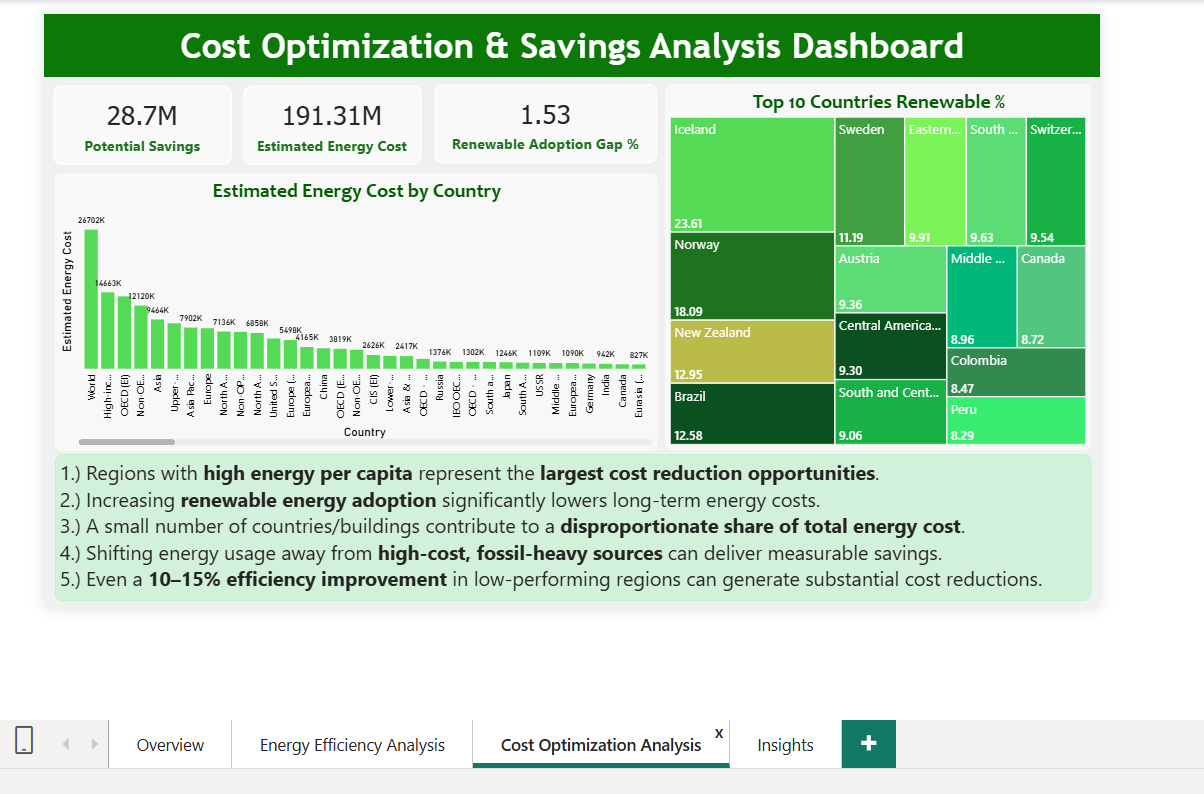

What the dashboard file says about the page in this screenshot:
{"tool":"powerbi","page":{"name":"Cost Optimization Analysis","canvas":[1280,720],"ordinal":2},"visuals":[{"type":"textbox","box":[0,0,1280,76],"z":0},{"type":"card","fields":{"Values":["World Energy Consumption.Potential Savings"]},"box":[12.2,85.8,215.7,95.7],"z":1000},{"type":"card","fields":{"Values":["World Energy Consumption.Estimated Energy Cost"]},"box":[242.2,85.8,215.7,95.7],"z":2000},{"type":"card","fields":{"Values":["World Energy Consumption.Renewable Adoption Gap"]},"box":[472.9,85.7,270,95.7],"z":3000},{"type":"columnChart","fields":{"Category":["World Energy Consumption.Country"],"Y":["World Energy Consumption.Estimated Energy Cost"]},"box":[12.9,192.9,730,335.7],"z":4000},{"type":"treemap","title":"Top 10 Countries Renewable %","fields":{"Group":["World Energy Consumption.Country"],"Values":["World Energy Consumption.Renewable %"]},"box":[752.9,85.7,515.7,442.9],"z":5000},{"type":"textbox","box":[12.9,534,1255.7,178],"z":6000}]}

Visuals, with their boxes on the page's 1280x720 design canvas (x1, y1, x2, y2). These are canvas units, not pixel positions in the 1204x794 screenshot, which may show the page scaled, cropped or inside an application window:
textbox: rect(0, 0, 1280, 76)
card - World Energy Consumption.Potential Savings: rect(12, 86, 228, 182)
card - World Energy Consumption.Estimated Energy Cost: rect(242, 86, 458, 182)
card - World Energy Consumption.Renewable Adoption Gap: rect(473, 86, 743, 181)
columnChart - World Energy Consumption.Country x World Energy Consumption.Estimated Energy Cost: rect(13, 193, 743, 529)
"Top 10 Countries Renewable %" treemap: rect(753, 86, 1269, 529)
textbox: rect(13, 534, 1269, 712)
